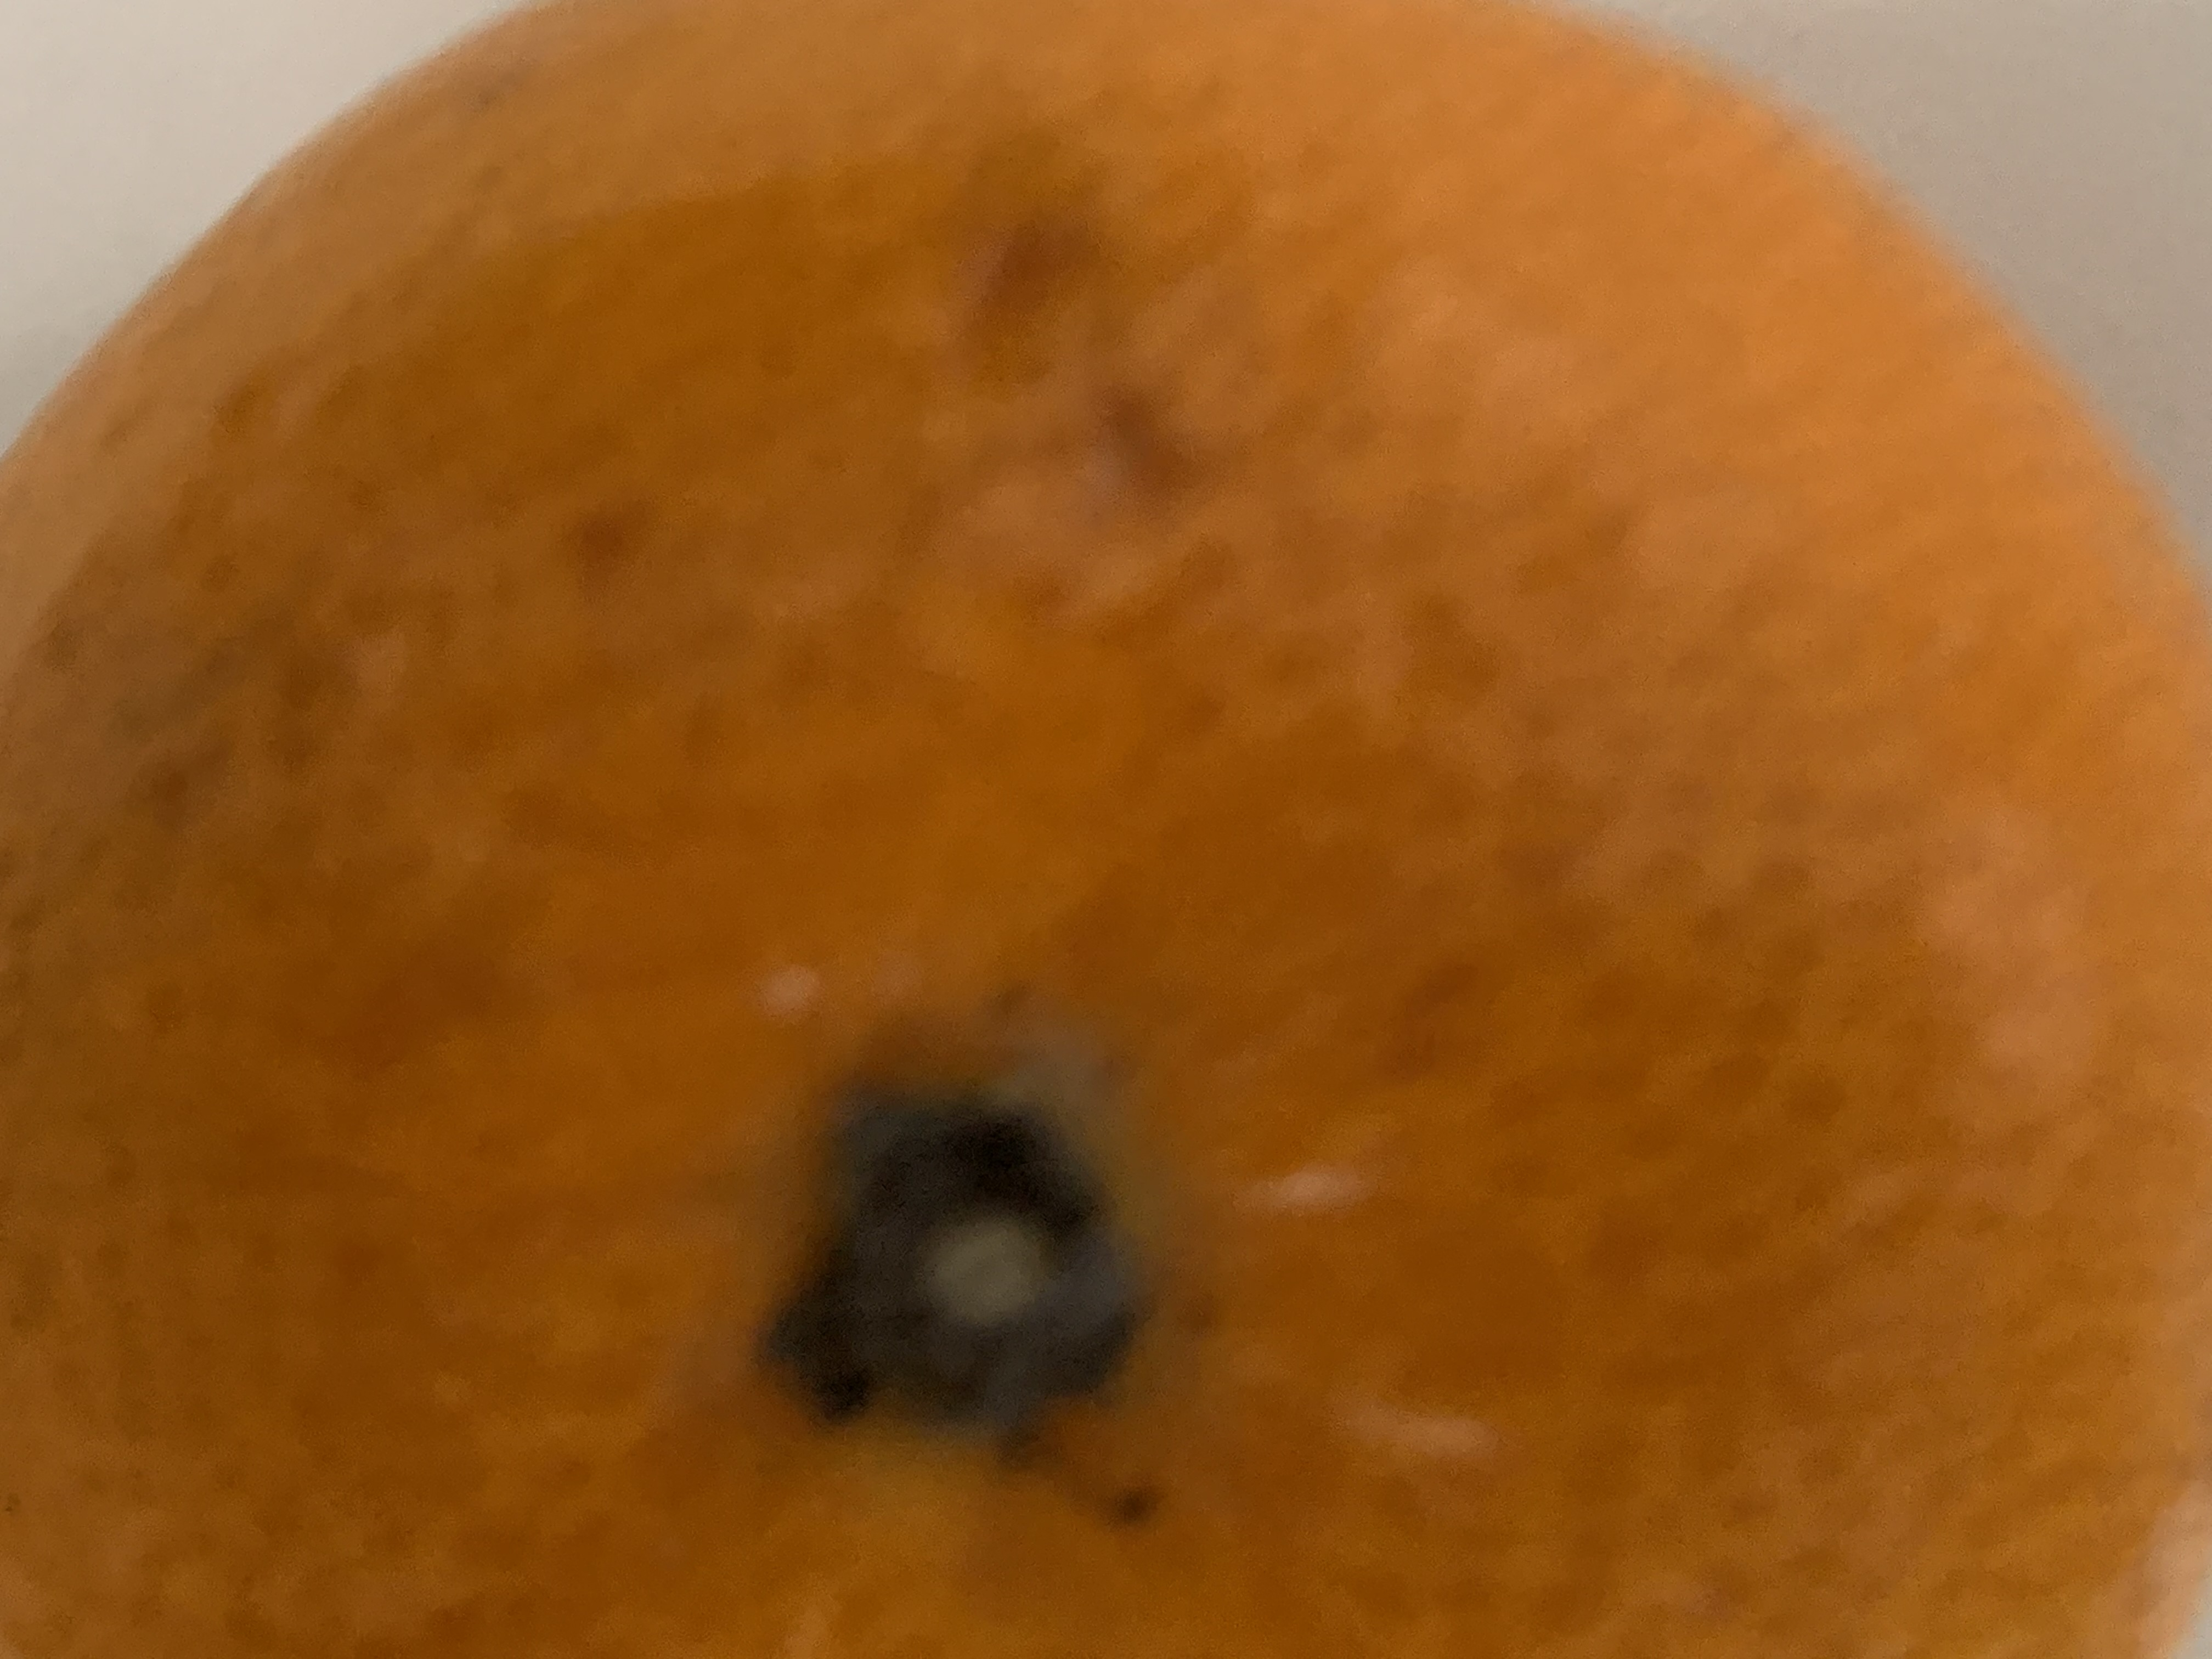orange: (12, 23, 2212, 1636)
